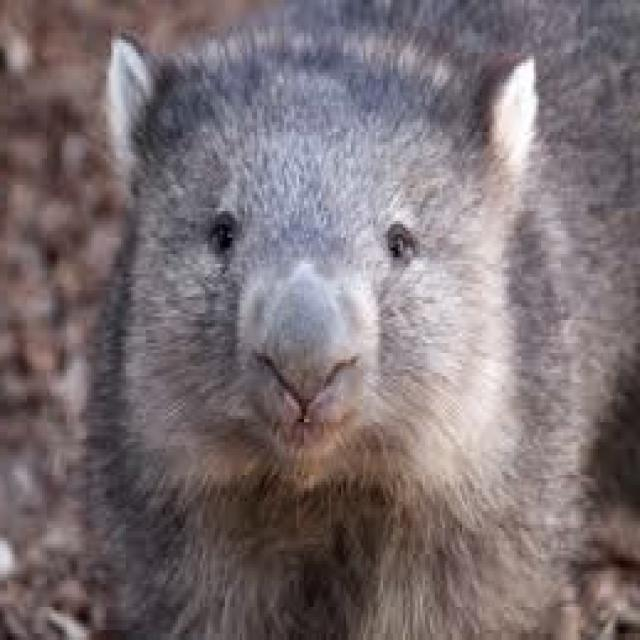wombats: (89, 0, 640, 637)
